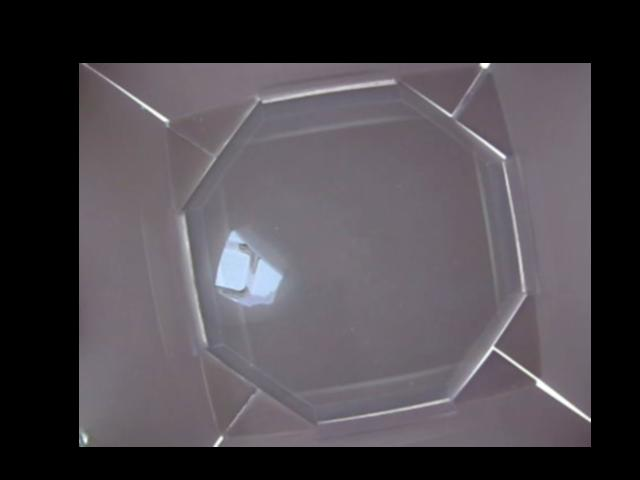China: (214, 231, 282, 307)
